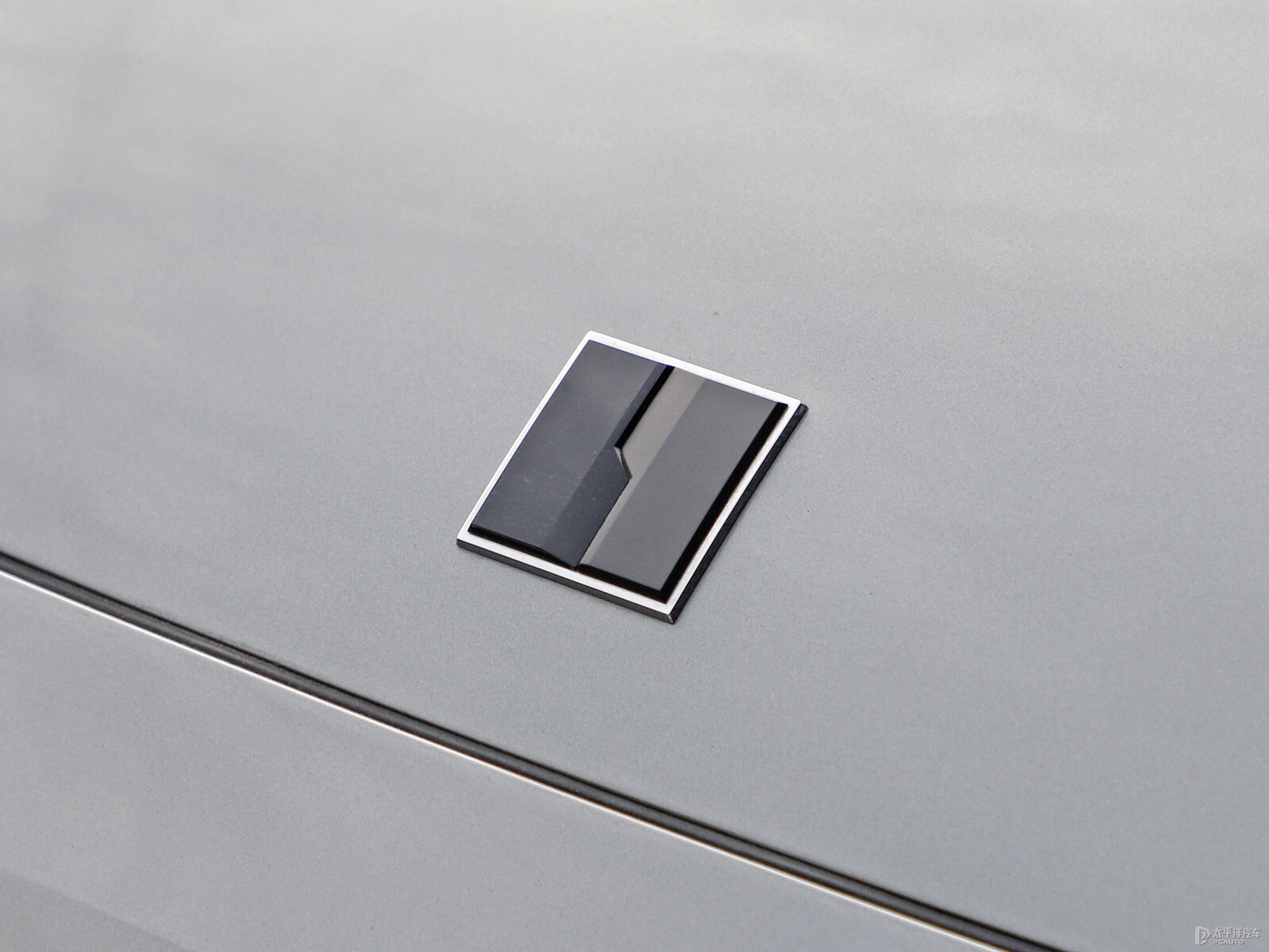LINK&CO: (457, 331, 807, 624)
